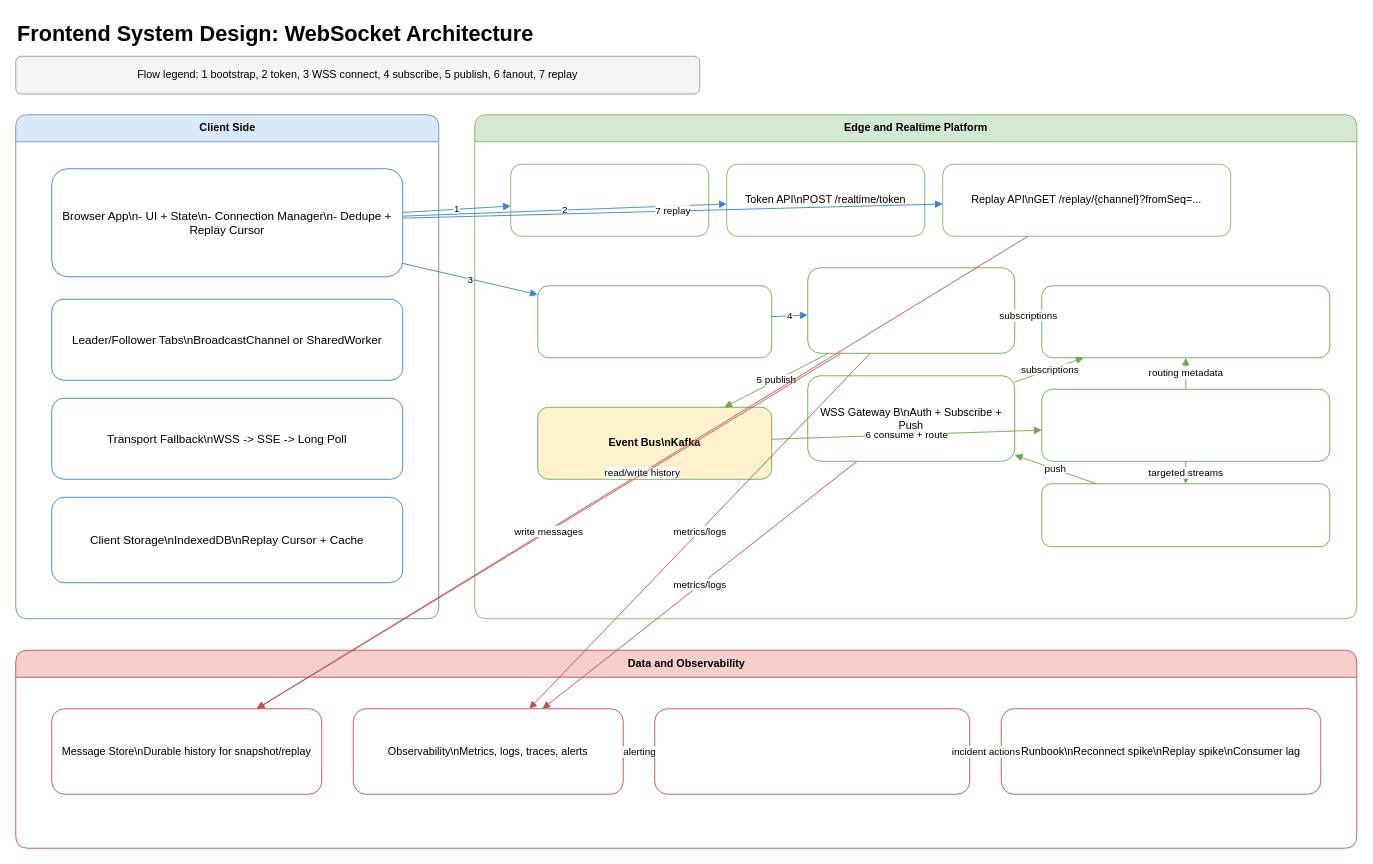
Some shapes in this 1373 by 864 pixel diagram are drawn without their labels. Here are the shapes that lost their labels. From the top down, the centre of each, then its label:
(609,199): Bootstrap API\nGET /realtime/bootstrap
(654,321): Load Balancer / Edge
(911,310): WSS Gateway A\nAuth + Subscribe + Push
(1185,321): Presence / Subscription Store\nRedis
(1185,424): Fanout Router\nResolve target nodes via routing table
(1185,515): Node-Targeted Delivery Streams
(812,751): SLO Dashboard\nP99 latency, reconnect rate, replay rate
